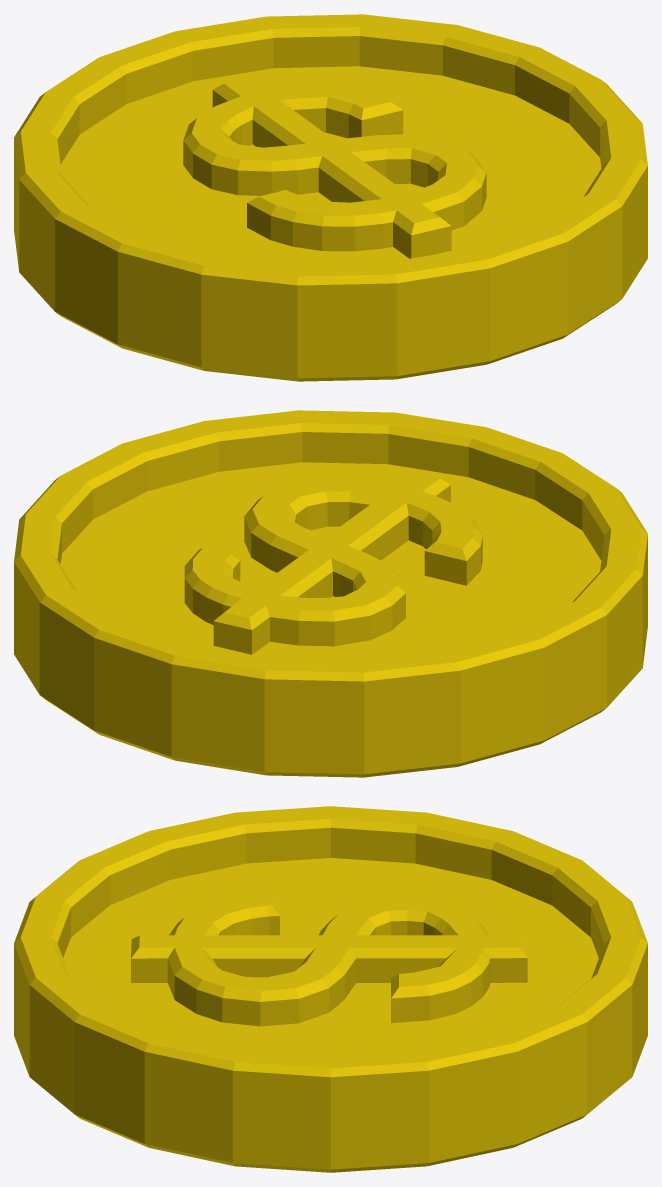
Rendered from coin.fbx.
The picture shows the model from 3 angles, top to bottom: view 1: azimuth 30°, elevation 25°; view 2: azimuth 150°, elevation 25°; view 3: azimuth 270°, elevation 25°; orthographic projection.
Parts seen in each view (by area): view 1: Coin; view 2: Coin; view 3: Coin.
Part boxes in pixels (x1,y1,x2,y2): Coin: (14,14,647,381); Coin: (14,410,647,777); Coin: (14,806,647,1172).
Bounding box in the file's own units: 200 × 36.34 × 200.
